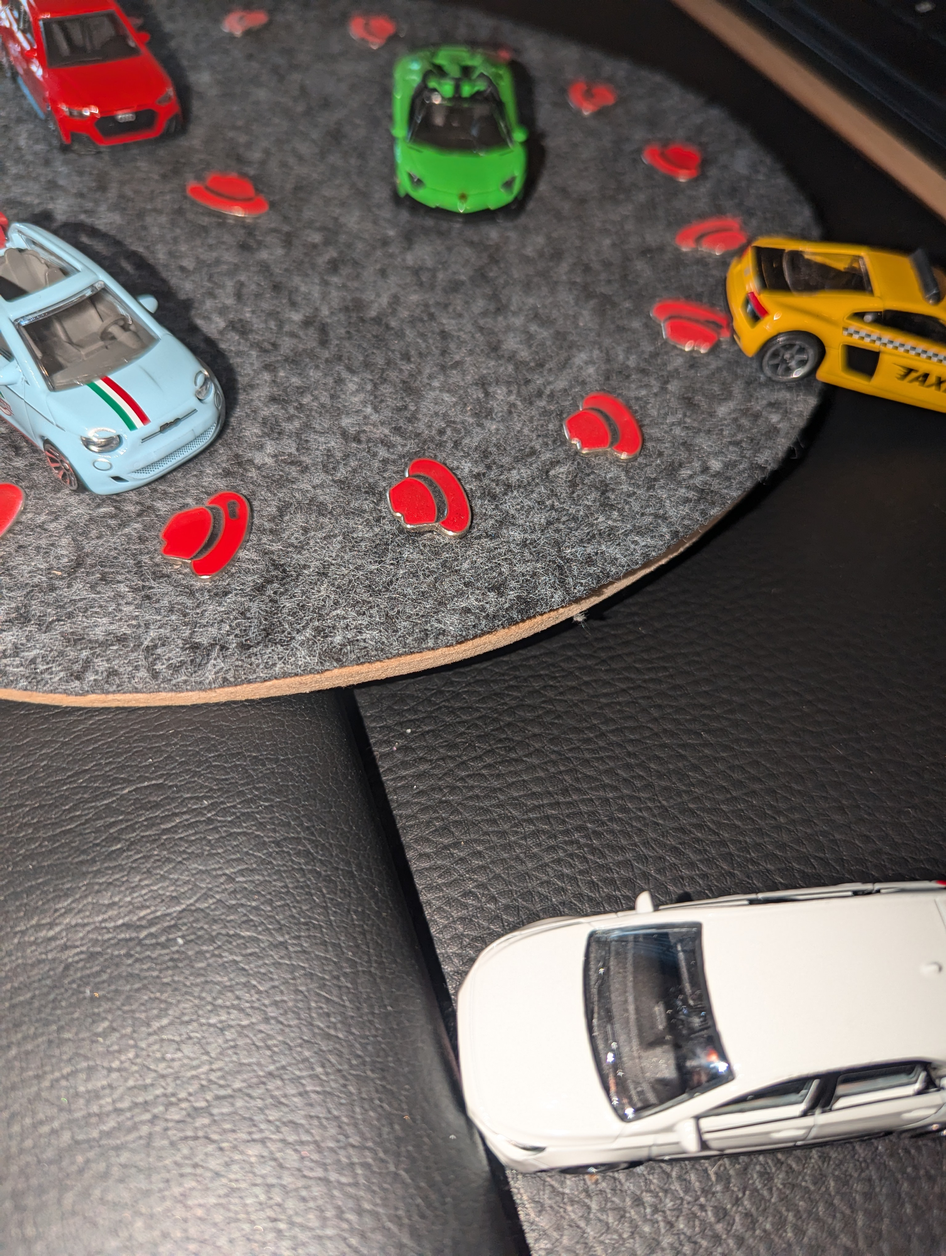Car: (387, 865, 946, 1197), (0, 197, 243, 509), (725, 225, 946, 435), (362, 34, 540, 225), (0, 0, 191, 161)
Red-Hat: (144, 480, 270, 588), (366, 444, 486, 549), (627, 286, 746, 360), (555, 380, 652, 468), (172, 150, 274, 230), (665, 202, 767, 266), (636, 129, 714, 193), (215, 0, 295, 54), (332, 1, 418, 49), (565, 65, 636, 123)
Scratch: (212, 493, 263, 536), (697, 310, 733, 332)
